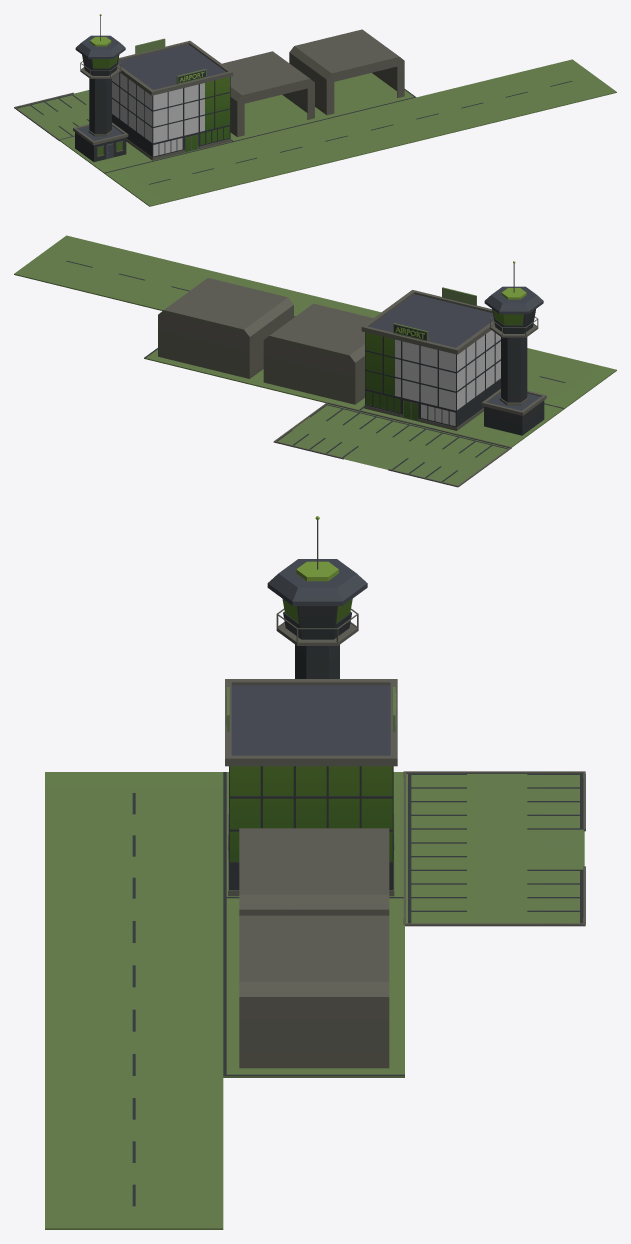
Rendered from Airport_01.fbx.
3 renders of one model, top to bottom at view 1: azimuth 30°, elevation 25°; view 2: azimuth 150°, elevation 25°; view 3: azimuth 270°, elevation 25°, orthographic. The views are drawn at different scales.
Parts seen in each view (by area): view 1: Airport_01; view 2: Airport_01; view 3: Airport_01.
Part boxes in pixels (x1,y1,x2,y2): Airport_01: (14,14,616,206); Airport_01: (14,235,616,487); Airport_01: (45,516,585,1229).
Bounding box in the file's own units: 72.08 × 20.35 × 36.08.
